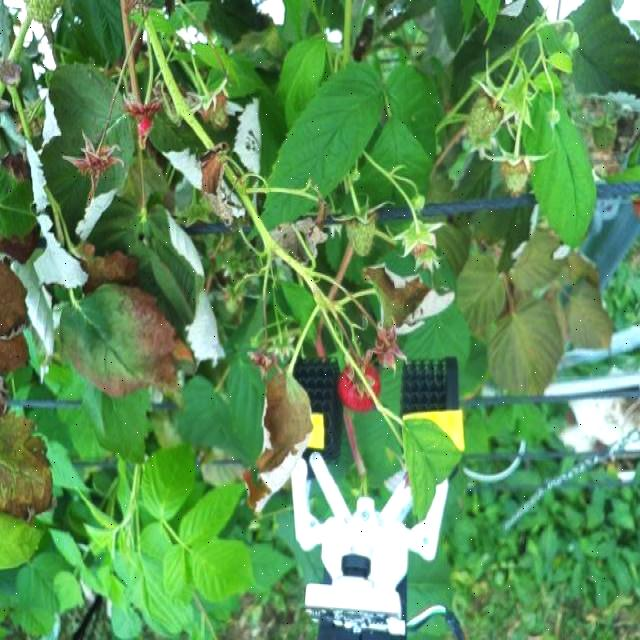Riped berries: (334, 356, 382, 413)
